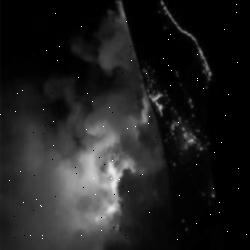fire: (68, 111, 189, 250)
